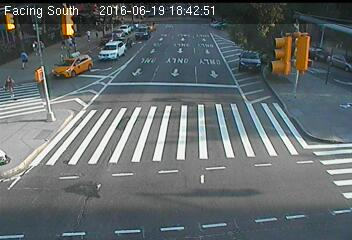neg: (324, 49, 351, 85), (211, 49, 238, 85), (151, 63, 177, 98), (108, 87, 131, 118), (304, 44, 325, 72)
pos: (16, 46, 30, 65), (64, 33, 75, 48), (84, 27, 94, 41), (38, 39, 47, 51), (29, 38, 38, 50)
